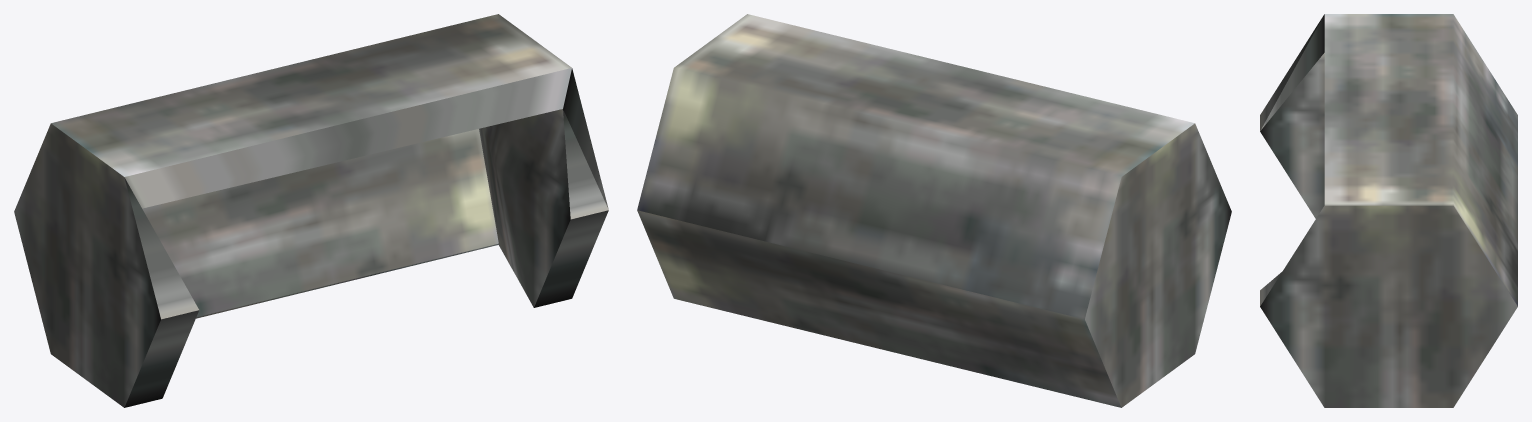
Rendered from Shared - Ground Vehicles - Big Rig - Damage State 09 - CVBigRig_d09.glb.
3 renders of one model, left to right at view 1: azimuth 30°, elevation 25°; view 2: azimuth 150°, elevation 25°; view 3: azimuth 270°, elevation 25°, orthographic. The views are drawn at different scales.
Visible parts, largest first — view 1: CVBIGRIG_D09; view 2: CVBIGRIG_D09; view 3: CVBIGRIG_D09.
Part boxes in pixels (x1,y1,x2,y2): CVBIGRIG_D09: (14,14,608,407); CVBIGRIG_D09: (637,14,1231,407); CVBIGRIG_D09: (1260,14,1517,407).
Size of the model in its own units: 6.12 by 3.01 by 3.48.
Materials: 1 (1 with a texture image).
